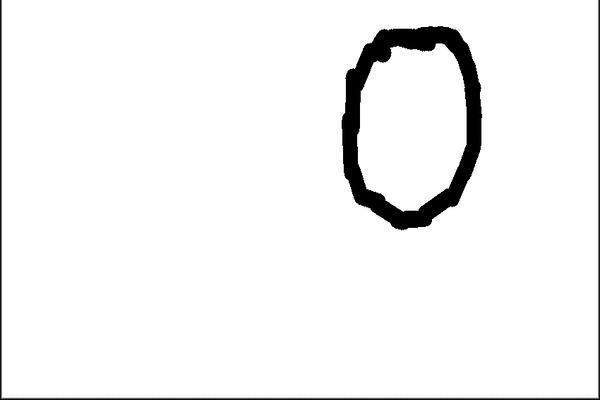O: (323, 15, 493, 237)
